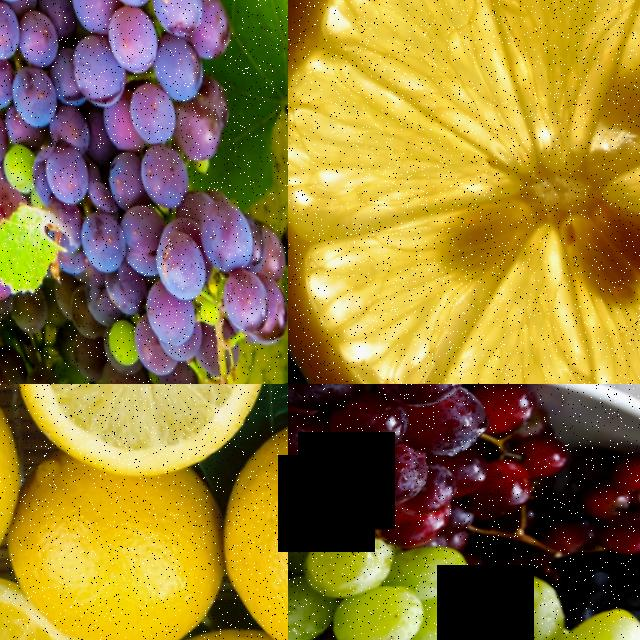grapes: (288, 434, 640, 640), (9, 0, 288, 225), (288, 384, 579, 585), (74, 160, 288, 381), (0, 0, 136, 228)
lemon: (288, 0, 640, 384), (0, 441, 258, 640), (0, 384, 288, 472), (194, 384, 288, 640)
